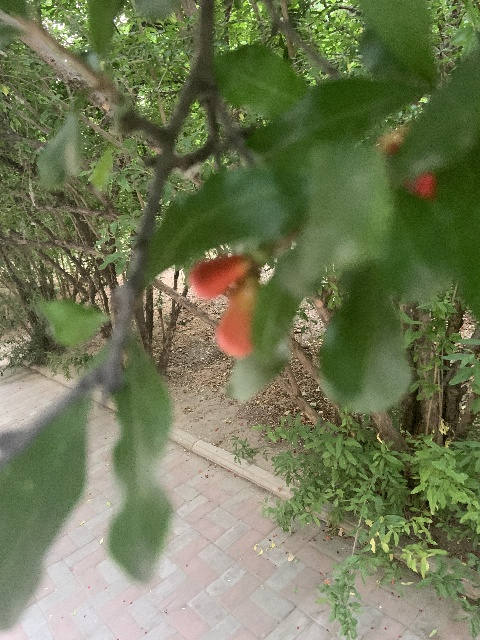bud: (215, 272, 257, 359), (187, 254, 246, 300)
